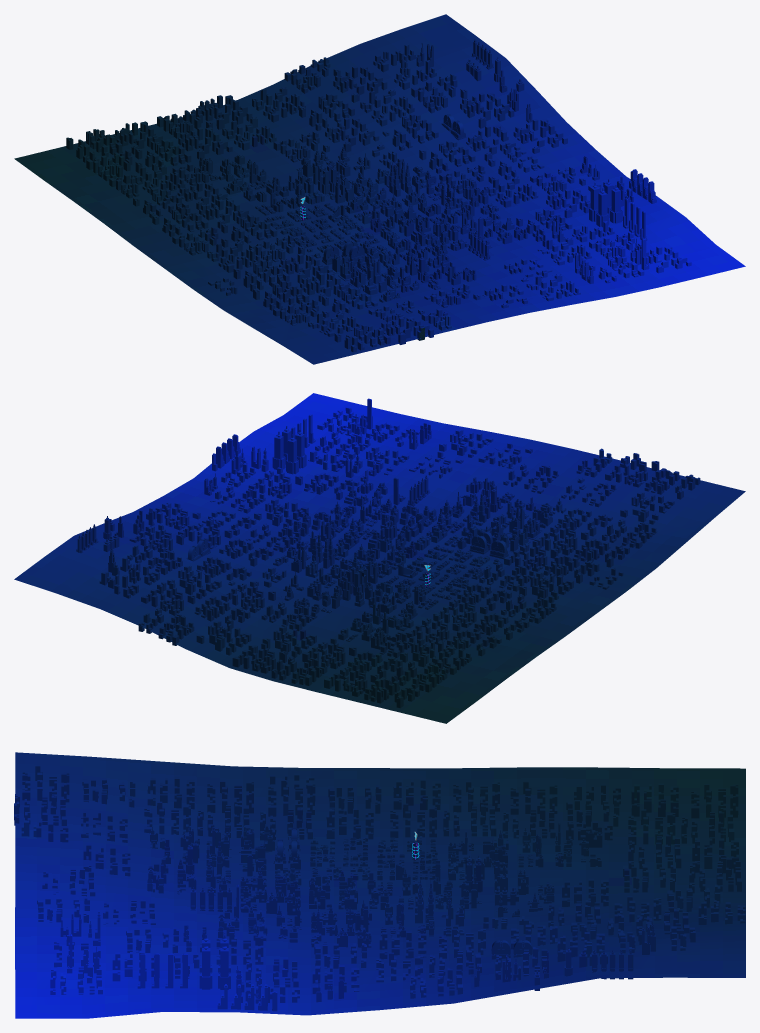
The model's file is world1.glb.
The picture shows the model from 3 angles, top to bottom: view 1: azimuth 30°, elevation 25°; view 2: azimuth 150°, elevation 25°; view 3: azimuth 270°, elevation 25°; orthographic projection. The views are drawn at different scales.
Parts seen in each view (by area): view 1: Mesh3, Mesh2, Mesh1, Mesh; view 2: Mesh3, Mesh2, Mesh1, Mesh; view 3: Mesh3, Mesh2, Mesh1, Mesh.
Part boxes in pixels (bbox=[...]): Mesh3: bbox=[14, 14, 745, 364]; Mesh2: bbox=[66, 39, 691, 308]; Mesh1: bbox=[198, 43, 649, 302]; Mesh: bbox=[209, 161, 468, 281]; Mesh3: bbox=[14, 393, 745, 723]; Mesh2: bbox=[76, 407, 599, 708]; Mesh1: bbox=[103, 398, 566, 649]; Mesh: bbox=[324, 505, 530, 641]; Mesh3: bbox=[14, 752, 745, 1018]; Mesh2: bbox=[37, 778, 745, 1010]; Mesh1: bbox=[60, 822, 655, 1011]; Mesh: bbox=[239, 824, 590, 915].
Bounding box in the file's own units: 20.87 × 2.93 × 25.06.
Materials: 6 (1 with a texture image).
